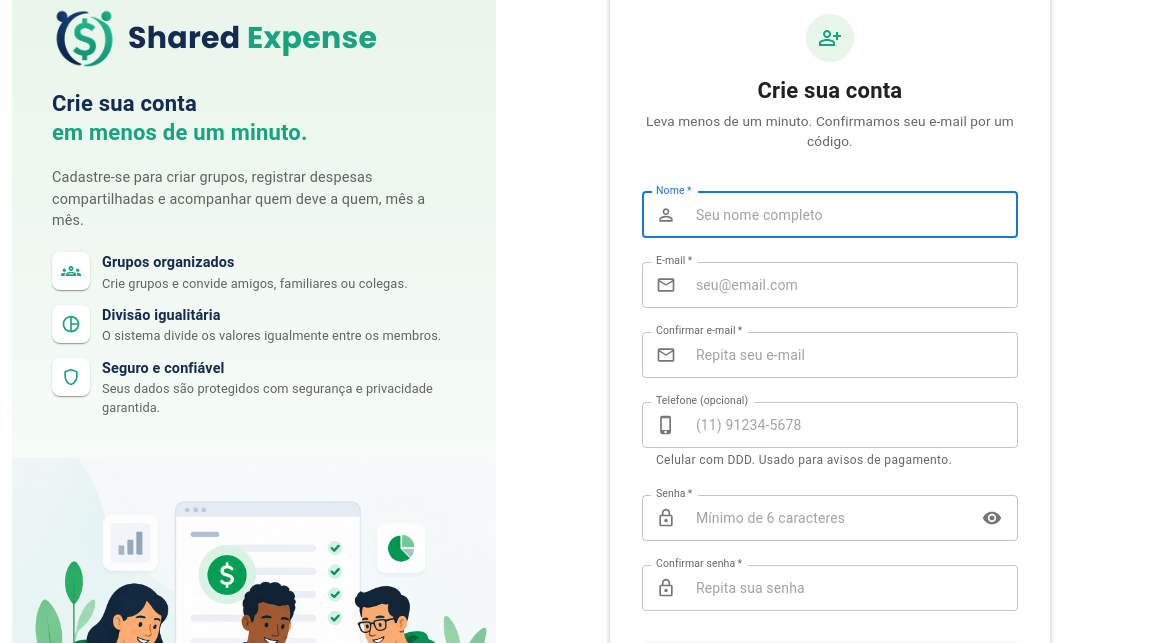
Test case: RegisterPage › posts the form to the pre-register endpoint and moves on to the code step
The image size is (1164, 643).
Step 1. Type "Maria Souza" into the field labelled "Nome *" → (851, 215), box left=684, top=195, right=1018, bottom=235
Step 2. Type "maria@example.com" into the field labelled "E-mail *" → (851, 285), box left=684, top=265, right=1018, bottom=305
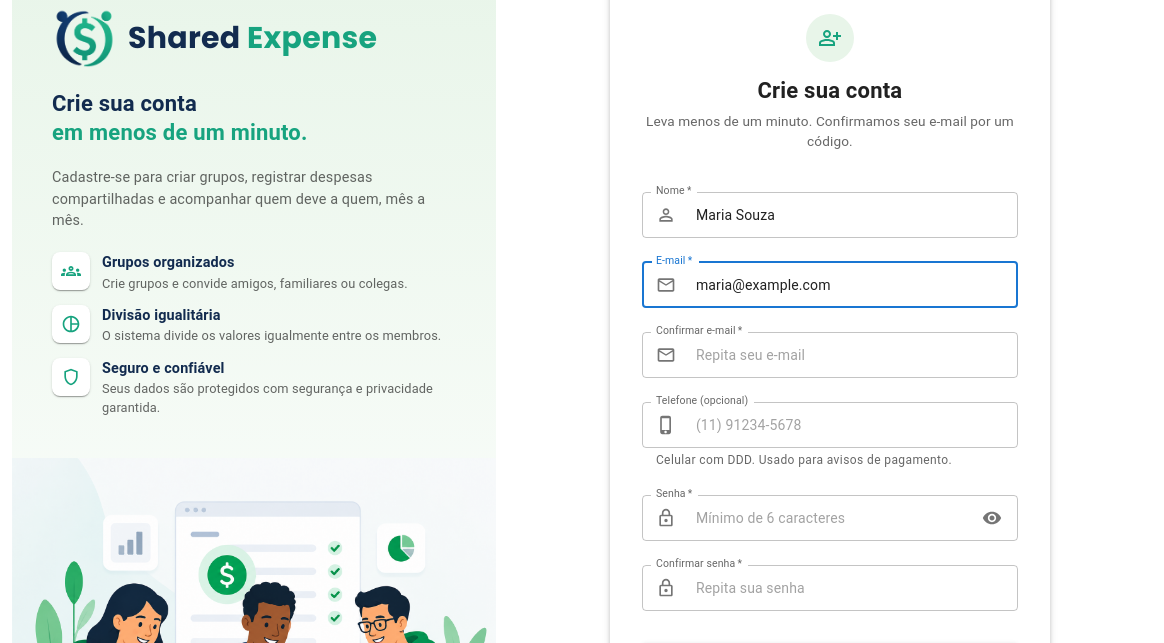
Step 3. Type "maria@example.com" into the field labelled "Confirmar e-mail *" → (851, 355), box left=684, top=335, right=1018, bottom=375
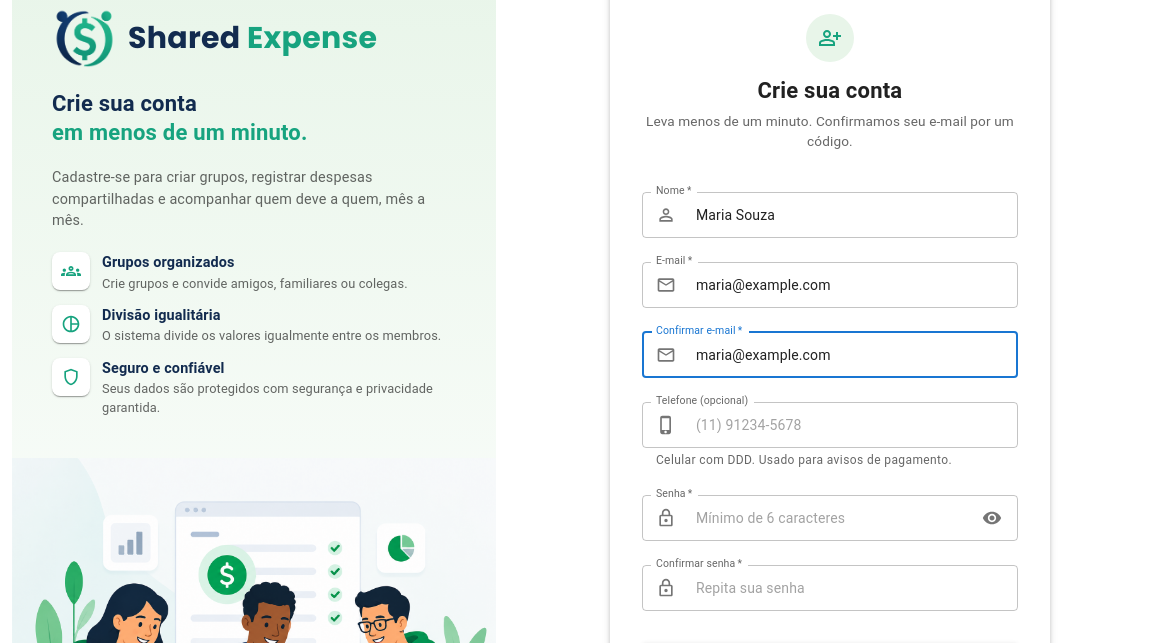
Step 4. Type "senha-forte-123" into the password field labelled "Senha *" → (826, 518), box left=684, top=498, right=969, bottom=538
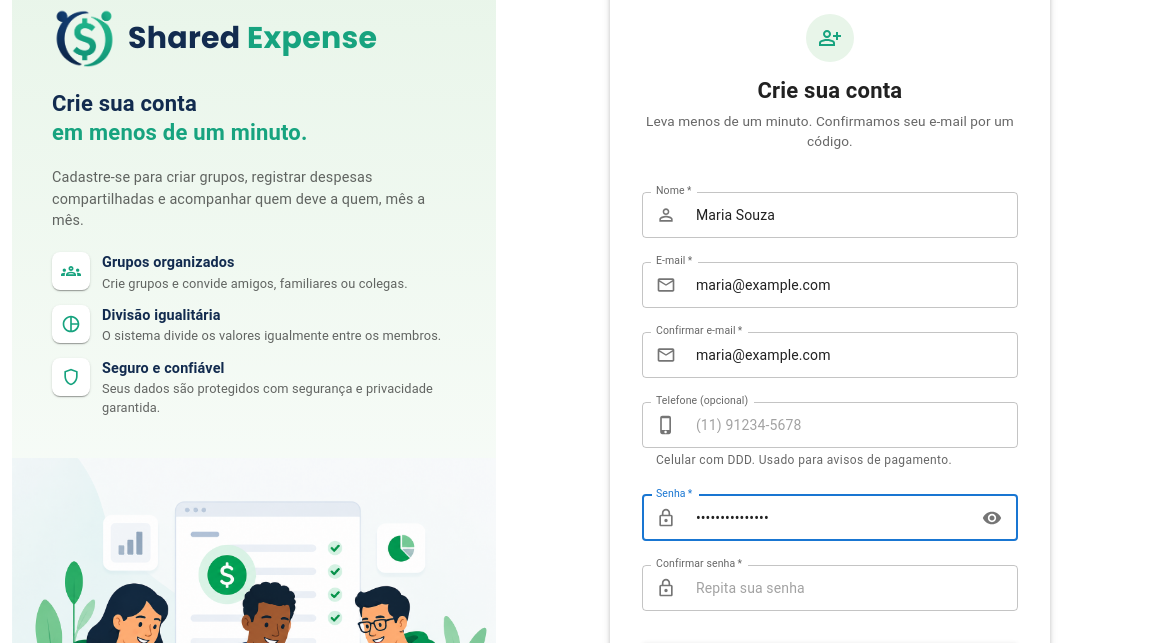
Step 5. Type "senha-forte-123" into the password field labelled "Confirmar senha *" → (851, 588), box left=684, top=568, right=1018, bottom=608
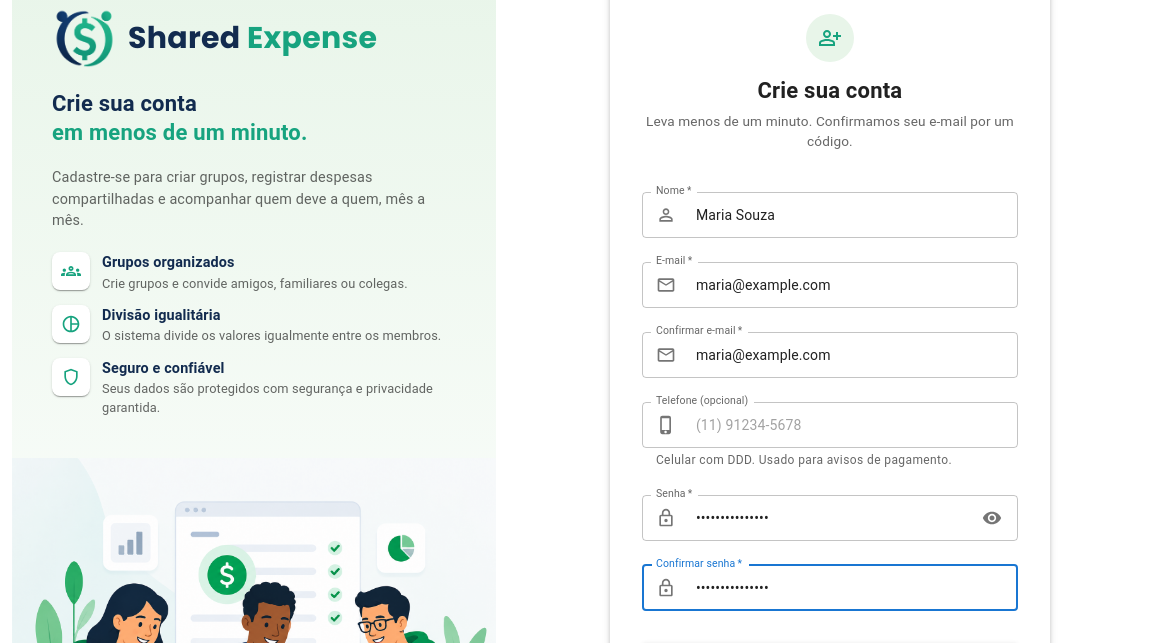
Step 6. Type "11912345678" into the field labelled "Telefone (opcional)" → (851, 425), box left=684, top=405, right=1018, bottom=445
(page scrolled)
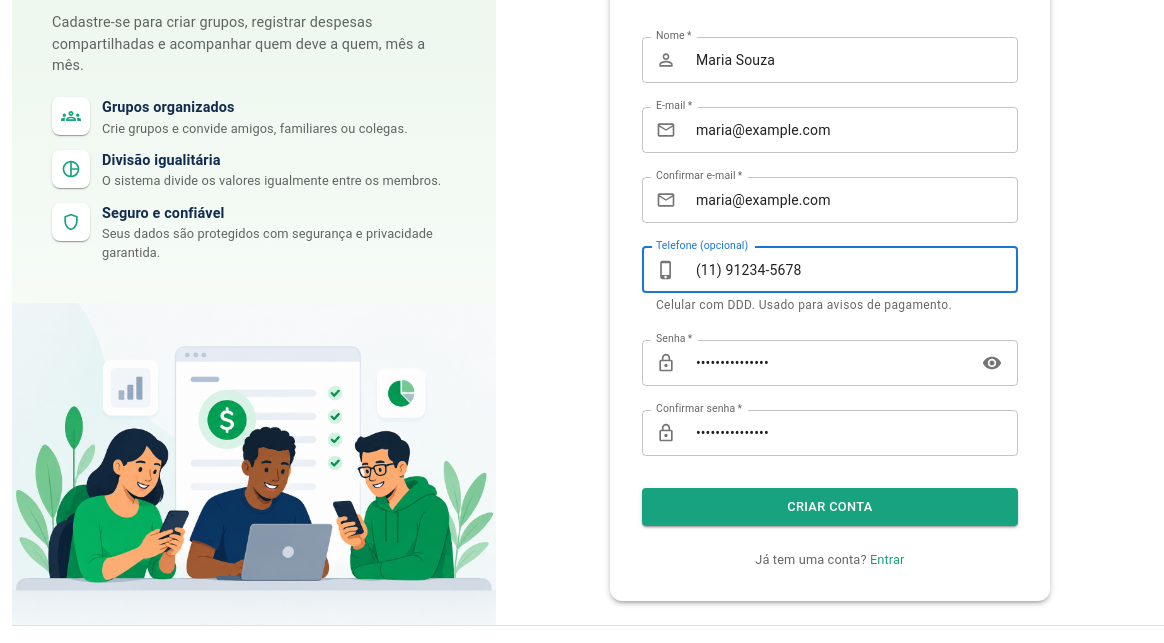
Step 7. Click the button "Criar conta" → (830, 507), box left=642, top=488, right=1018, bottom=526
(page scrolled)
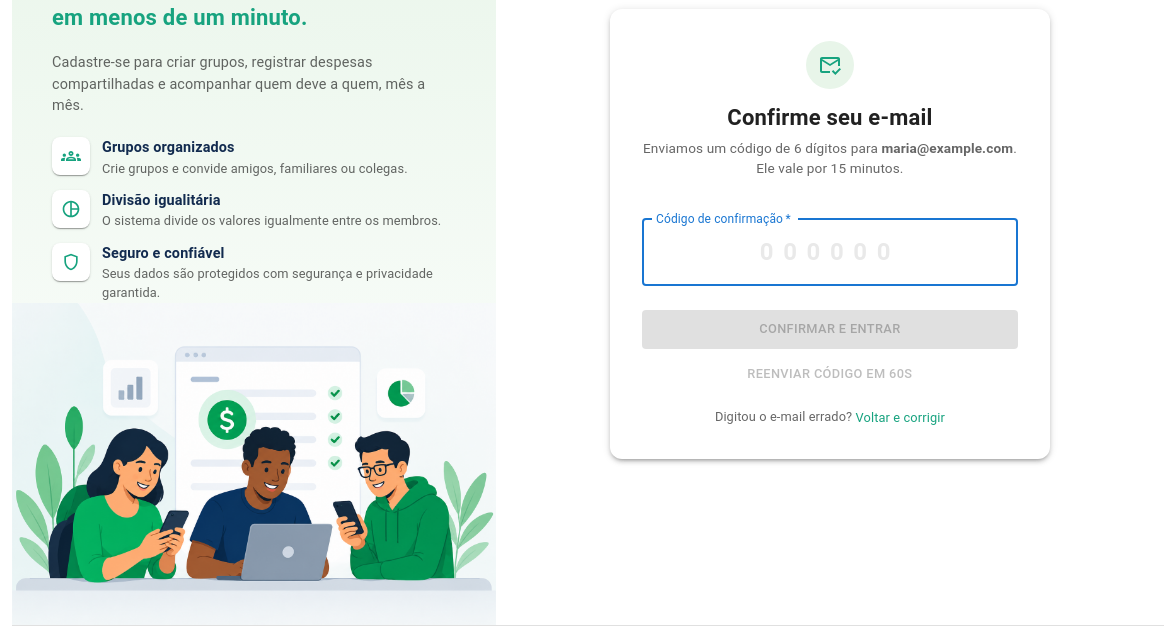
Expected: the field labelled "Código de confirmação *" is shown, left=642, top=219, right=1018, bottom=286
